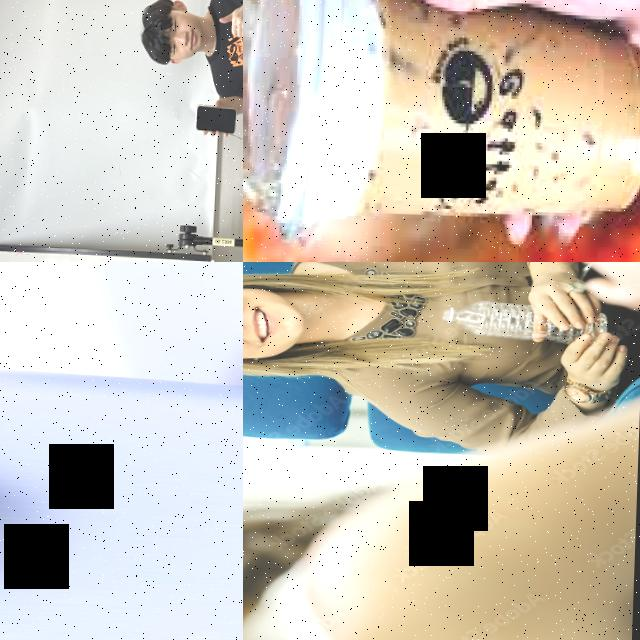bottle: (441, 298, 611, 344)
can: (0, 347, 243, 640)
cup: (243, 0, 640, 252)
